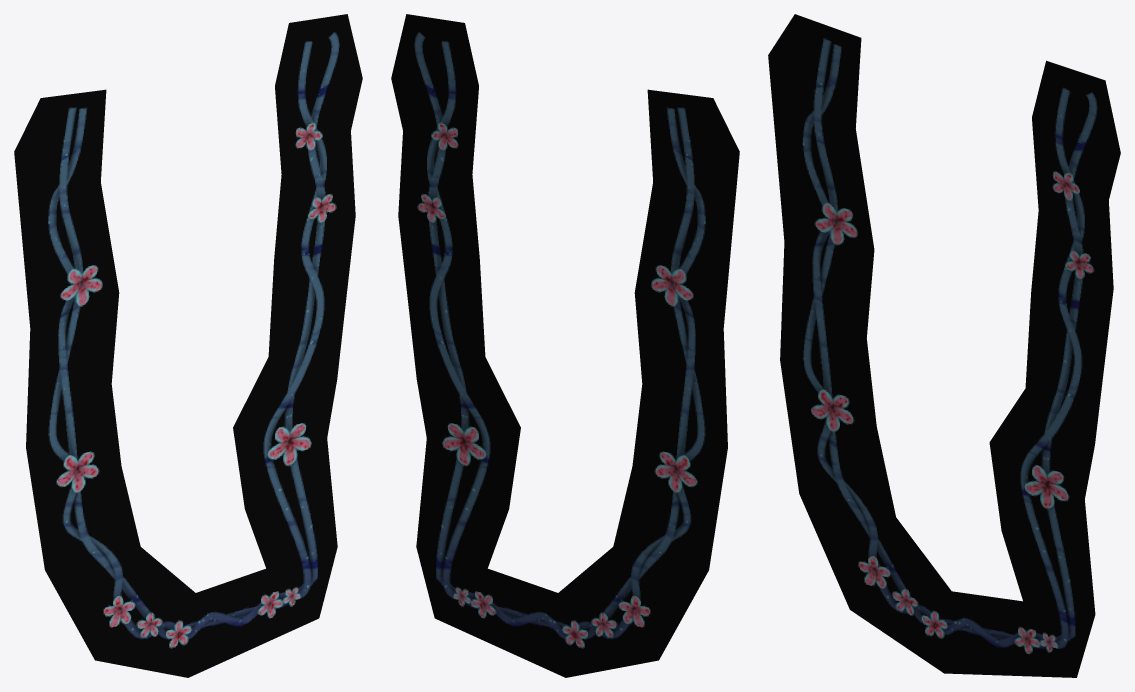
The model's file is MarshVine_b01.fbx.
3 views of the same model, side by side, from view 1: azimuth 30°, elevation 25°; view 2: azimuth 150°, elevation 25°; view 3: azimuth 330°, elevation 25° (orthographic).
Visible parts, largest first — view 1: Vine_b01; view 2: Vine_b01; view 3: Vine_b01.
Boxes of the visible parts, bbox=[...] form: Vine_b01: bbox=[14, 14, 362, 677]; Vine_b01: bbox=[391, 14, 739, 677]; Vine_b01: bbox=[768, 14, 1120, 677].
Bounding box in the file's own units: 116 × 200 × 0.
